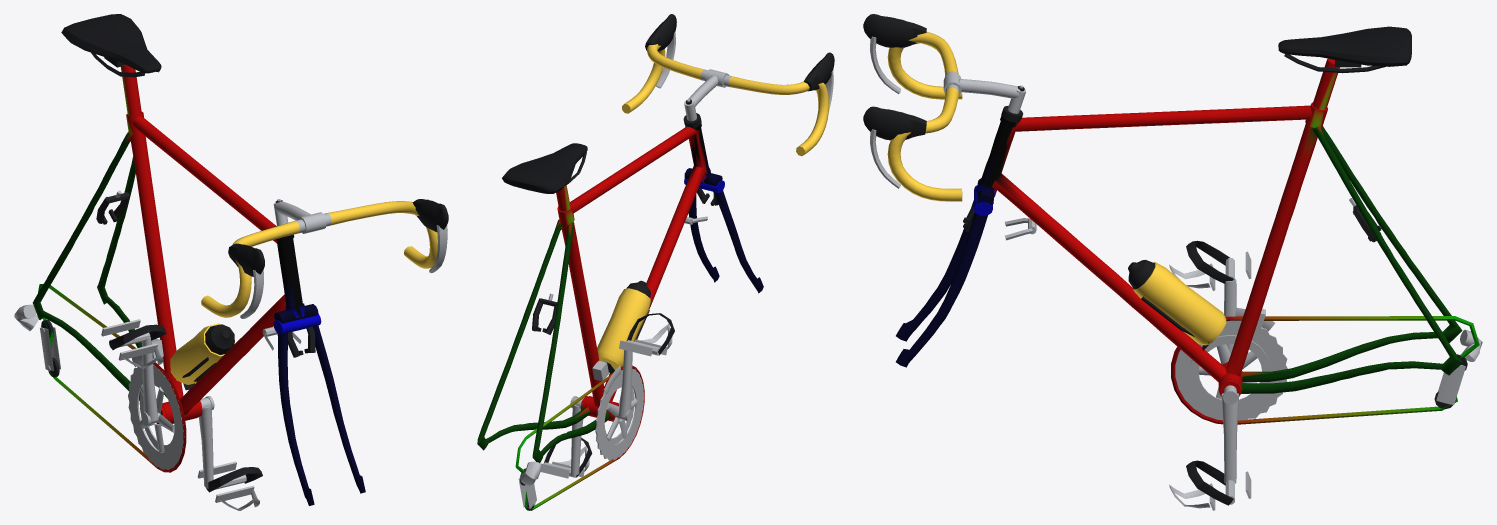
The model's file is steel.glb.
The picture shows the model from 3 angles, left to right: view 1: azimuth 30°, elevation 25°; view 2: azimuth 150°, elevation 25°; view 3: azimuth 270°, elevation 25°; orthographic projection. The views are drawn at different scales.
Visible parts, largest first — view 1: frame, cockpit, crankset, saddle, opt_bottles, opt_derailleur, opt_brakes_rim, pedal_R, opt_toeclips_L, opt_toeclips_R, pedal_L; view 2: frame, cockpit, crankset, saddle, opt_bottles, opt_derailleur, opt_brakes_rim, opt_toeclips_R, pedal_R, pedal_L; view 3: frame, cockpit, crankset, saddle, opt_bottles, opt_derailleur, opt_toeclips_L, opt_toeclips_R.
Part boxes in pixels (box(x1,y1,x2,y2)): frame: box(32, 64, 365, 505); cockpit: box(201, 199, 448, 318); crankset: box(128, 337, 214, 488); saddle: box(61, 14, 161, 77); opt_bottles: box(170, 323, 234, 390); opt_derailleur: box(14, 304, 163, 377); opt_brakes_rim: box(96, 190, 315, 357); pedal_R: box(101, 319, 157, 360); opt_toeclips_L: box(206, 467, 262, 510); opt_toeclips_R: box(109, 324, 166, 368); pedal_L: box(197, 461, 254, 502); frame: box(477, 123, 763, 510); cockpit: box(622, 14, 834, 156); crankset: box(570, 350, 644, 475); saddle: box(502, 143, 587, 193); opt_bottles: box(597, 280, 650, 373); opt_derailleur: box(518, 360, 621, 510); opt_brakes_rim: box(532, 188, 718, 334); opt_toeclips_R: box(626, 313, 674, 355); pedal_R: box(619, 339, 667, 356); pedal_L: box(540, 461, 584, 478); frame: box(896, 58, 1479, 424); cockpit: box(863, 14, 1025, 201); crankset: box(1175, 279, 1287, 483); saddle: box(1278, 26, 1411, 73); opt_bottles: box(1128, 259, 1226, 350); opt_derailleur: box(1235, 308, 1482, 409); opt_toeclips_L: box(1169, 460, 1233, 508); opt_toeclips_R: box(1169, 240, 1233, 288).
Size of the model in its own units: 0.4648 by 0.8855 by 1.13.
